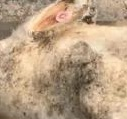text: (48, 2, 76, 28)
